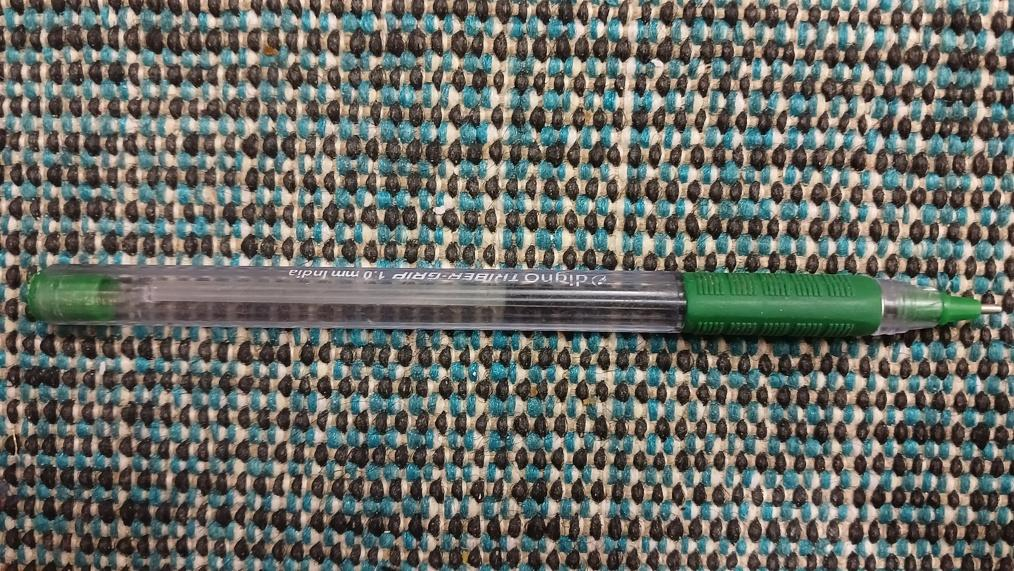pen: (10, 270, 1006, 333)
